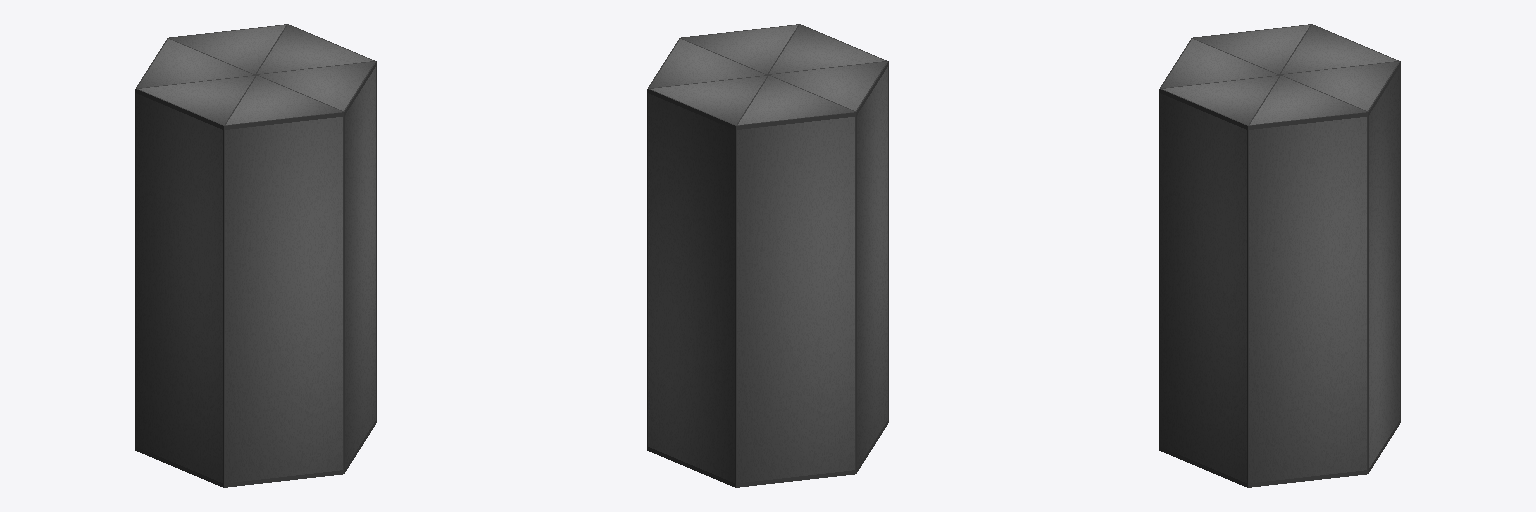
3 views of the same model, side by side, from view 1: azimuth 30°, elevation 25°; view 2: azimuth 150°, elevation 25°; view 3: azimuth 270°, elevation 25° (orthographic).
Size of the model in its own units: 1.93 by 3.2 by 1.93.
1 materials, 1 textured.